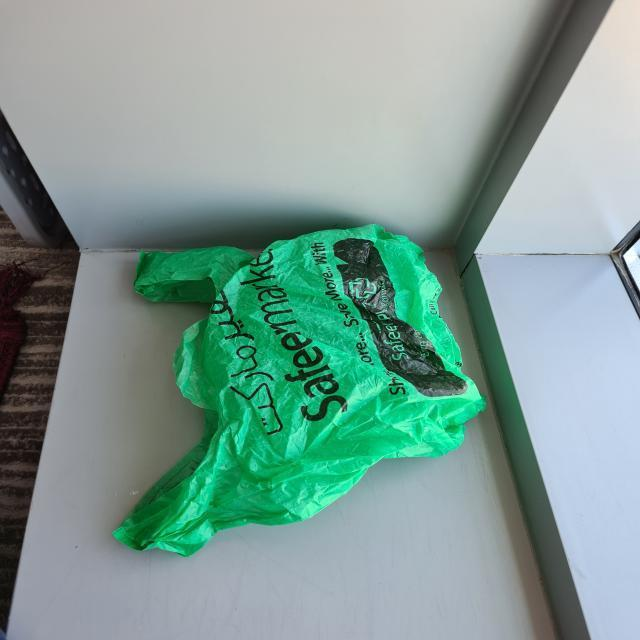Plastic_Bag: (117, 214, 487, 564)
